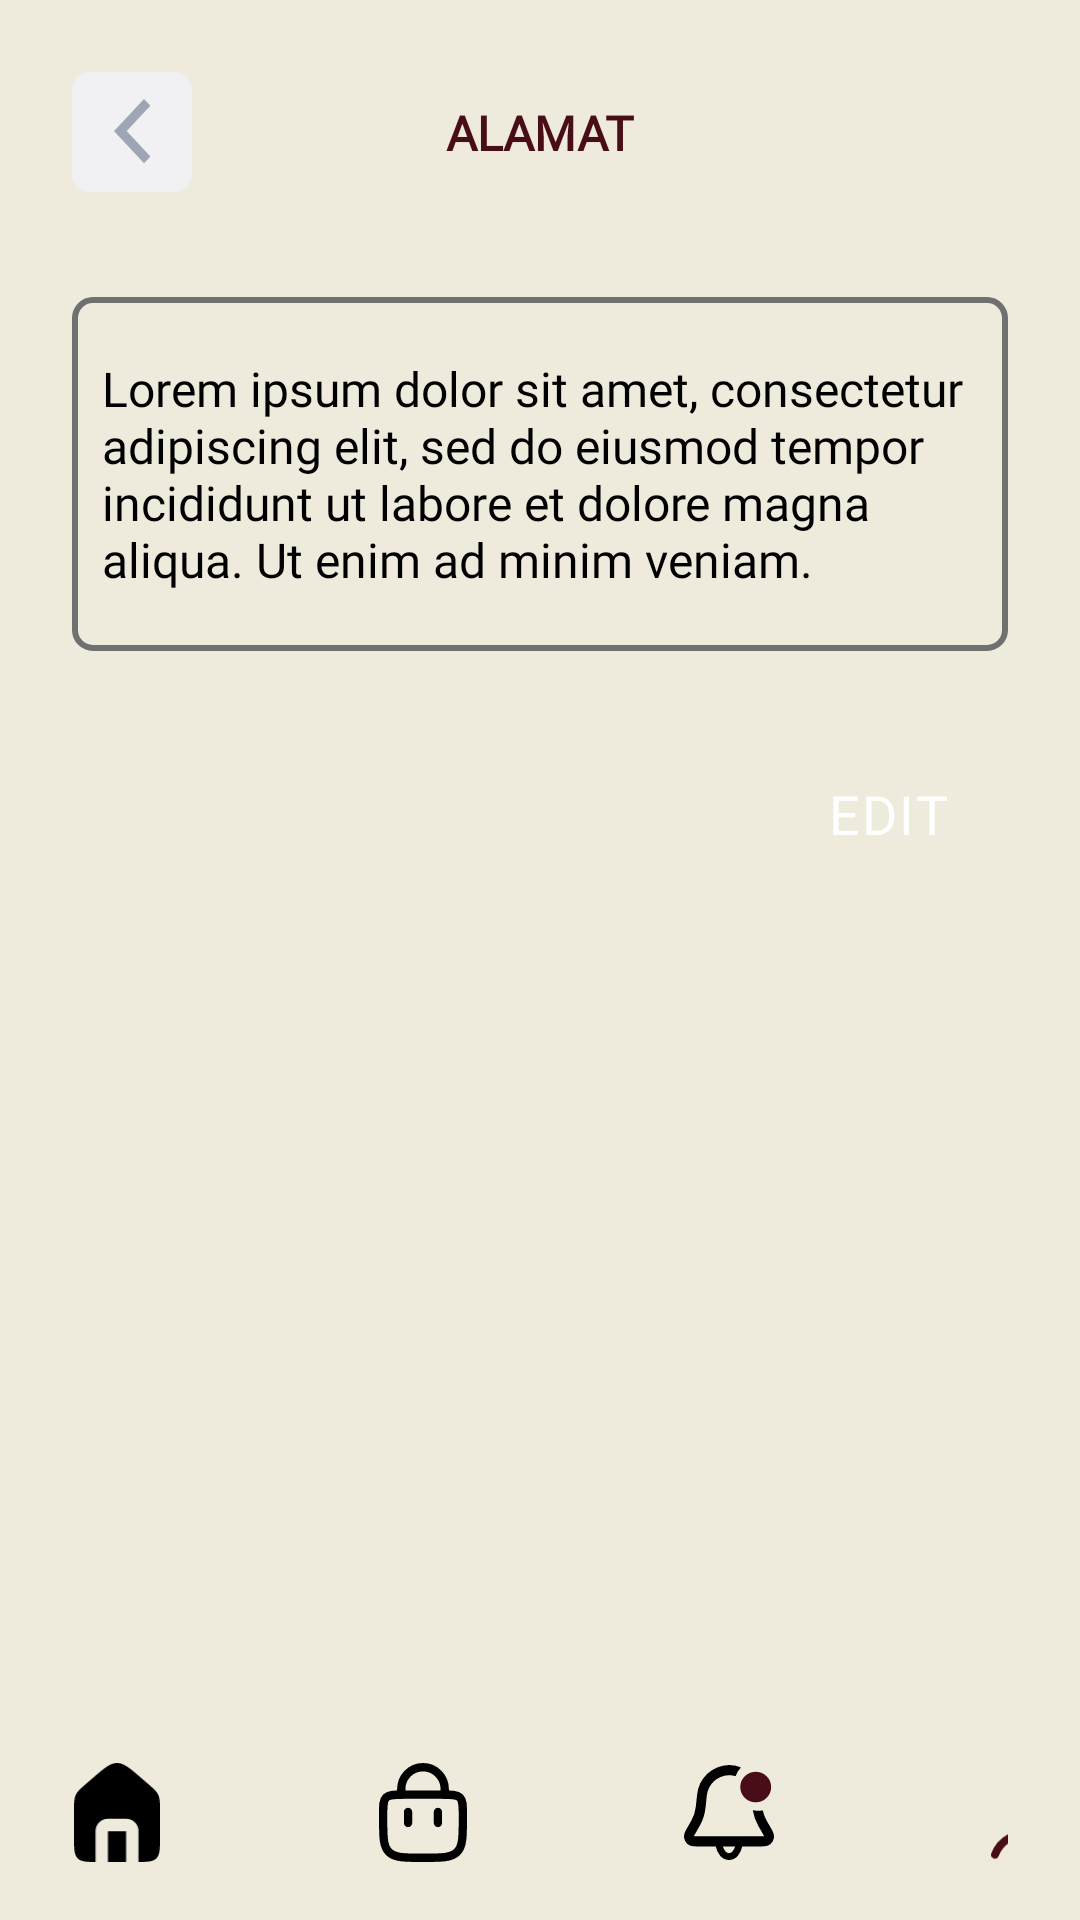

Icons on this 1080 x 1920 Android screen, each with the point to tap as (x=x, y=y):
back: (x=132, y=132)
cart: (x=423, y=1812)
home: (x=117, y=1812)
notification: (x=729, y=1812)
